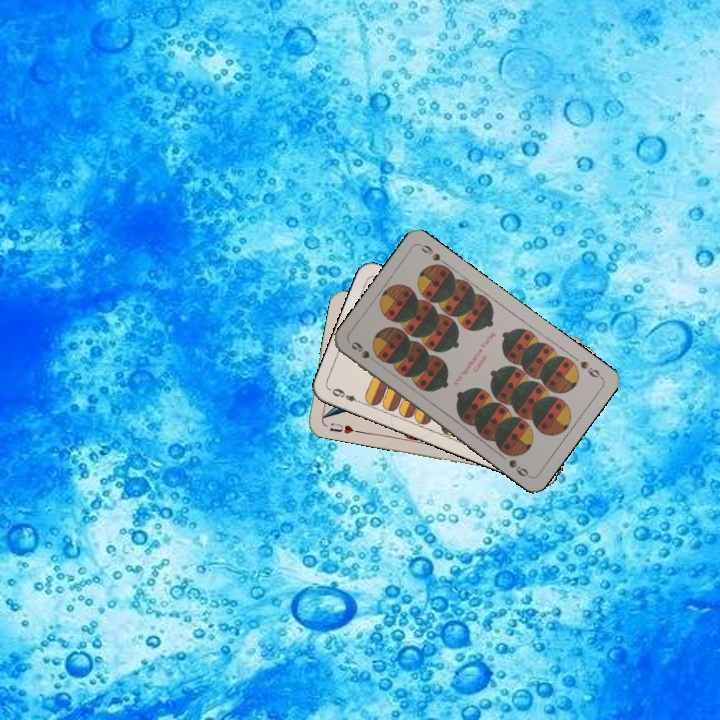E9: (328, 384, 365, 407)
HU: (326, 419, 356, 437)
S9: (347, 337, 382, 367), (576, 357, 605, 381)
